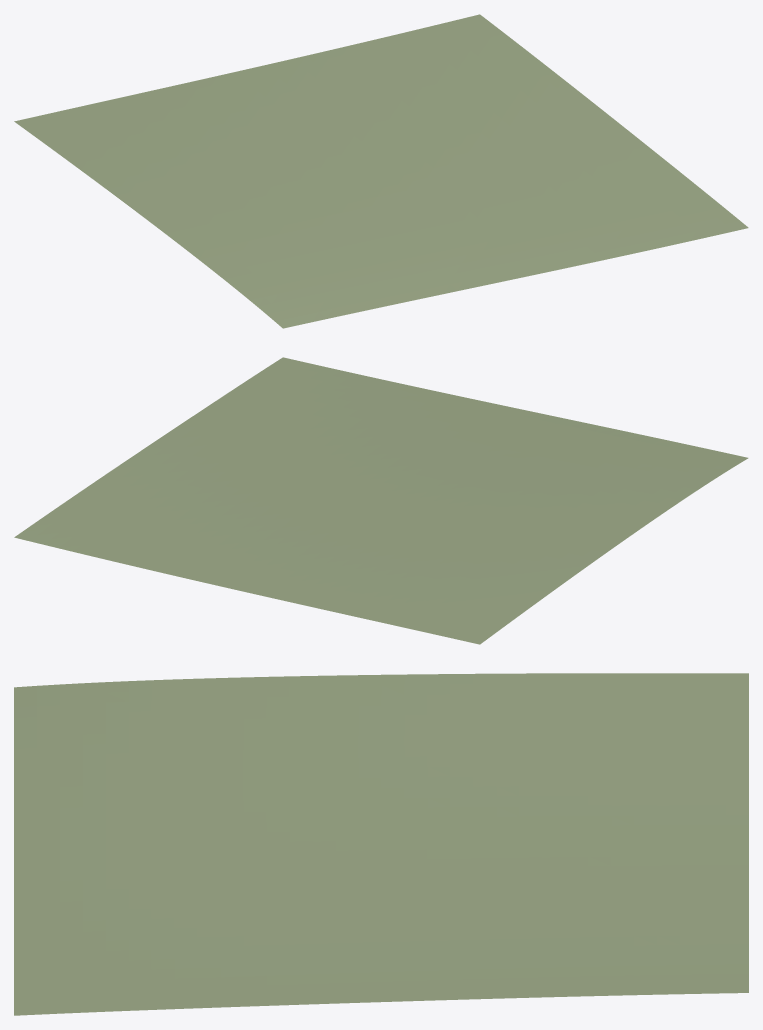
File: expanse-1-3.glb
3 renders of one model, top to bottom at view 1: azimuth 30°, elevation 25°; view 2: azimuth 150°, elevation 25°; view 3: azimuth 270°, elevation 25°, orthographic. The views are drawn at different scales.
Parts seen in each view (by area): view 1: expanse-1-3; view 2: expanse-1-3; view 3: expanse-1-3.
Part boxes in pixels (x1,y1,x2,y2): expanse-1-3: (14, 14, 748, 328); expanse-1-3: (14, 357, 748, 644); expanse-1-3: (14, 673, 748, 1015).
Bounding box in the file's own units: 256 × 12.29 × 256.
